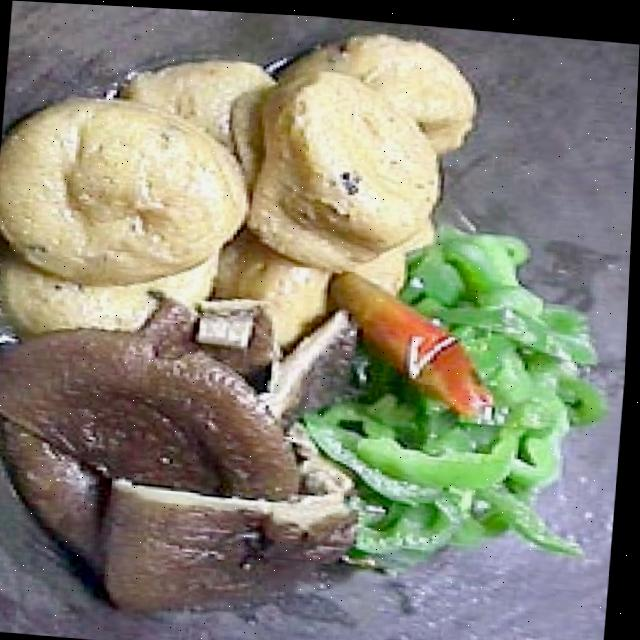熟制海鲜: (0, 0, 553, 375)
